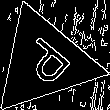P_SE: (11, 30, 77, 92)
